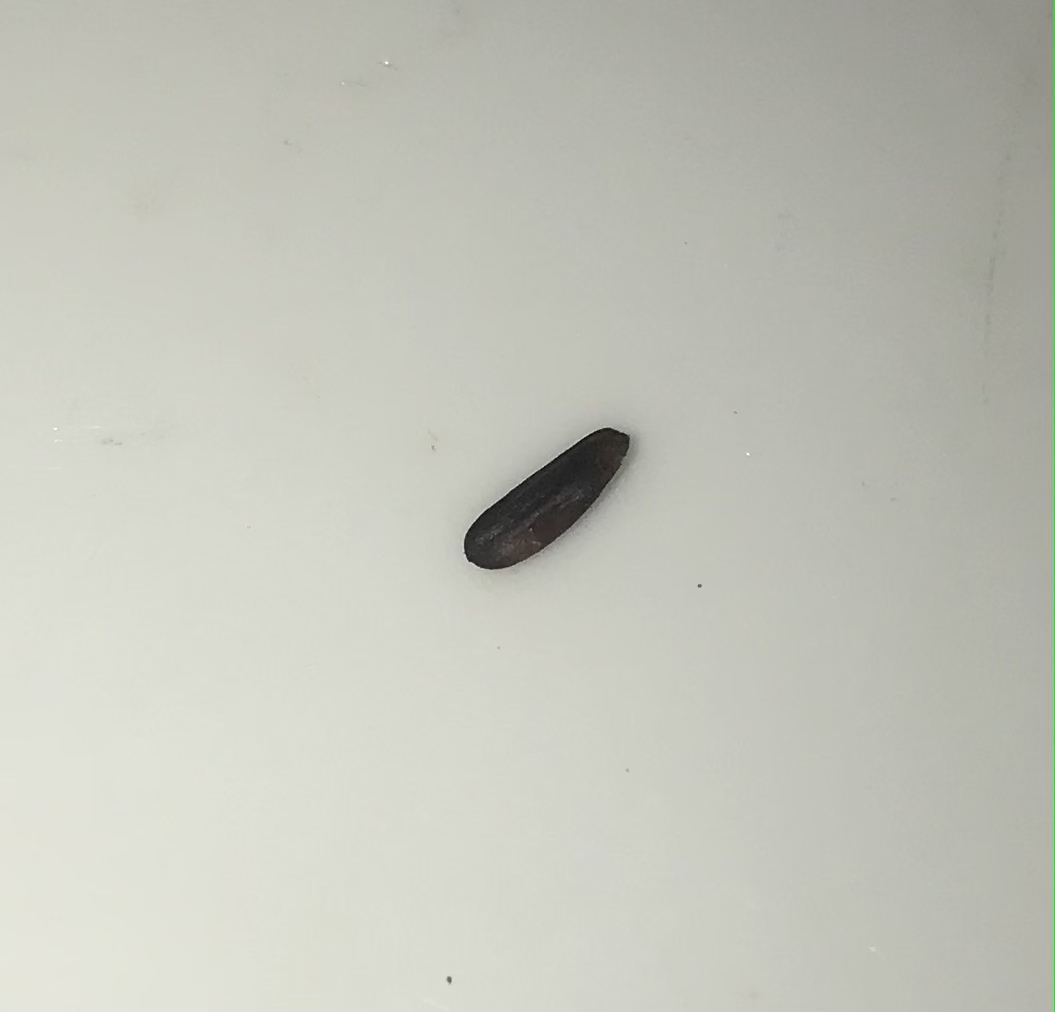Gao Nep Cam: (462, 412, 641, 581)
